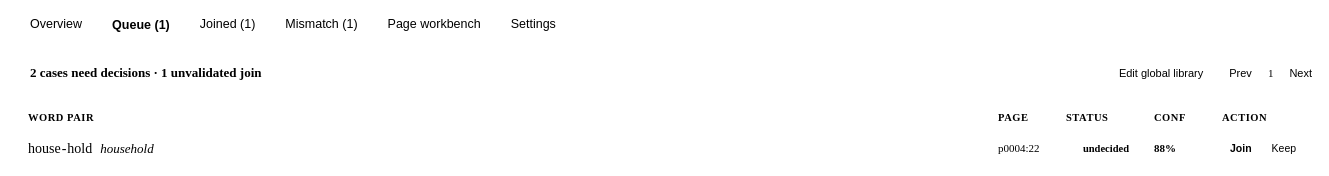
Test: HyphenJoinTool — tab switching › clicking Overview tab shows hyphen-overview-tab
What coordinates should you click on to do the following:
click the button with test id "hyphen-tab-overview"
I would click on:
 (56, 25)
Its box is [16,8,96,42].
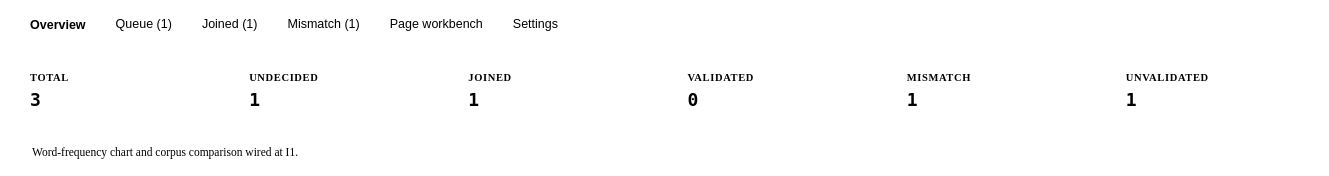
Result: the element with test id "hyphen-overview-tab" is shown at [30,72,1209,158]
Result: the element with test id "hyphen-case-list-queue" is gone
